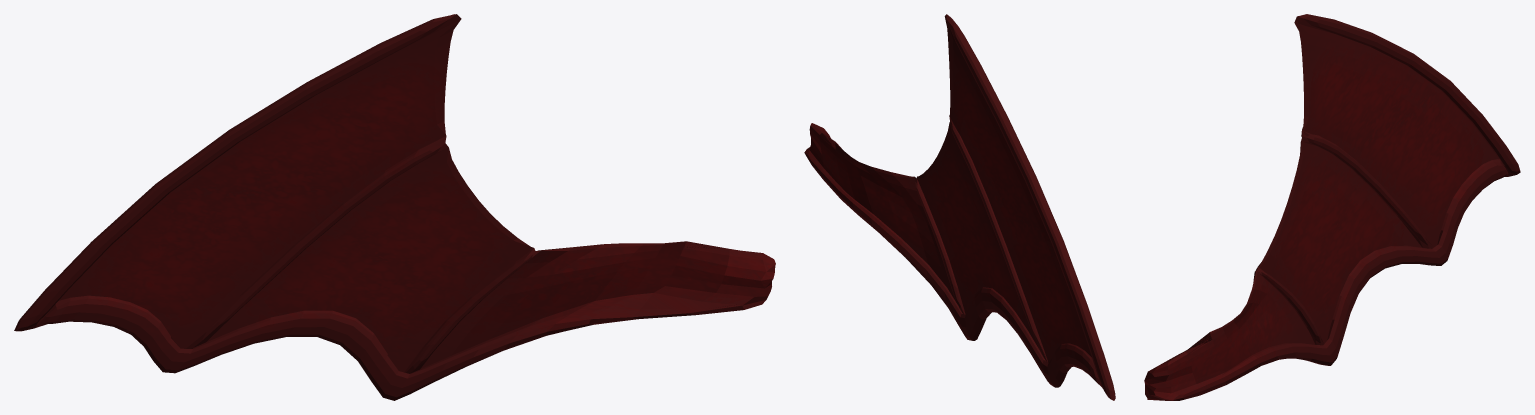
File: AD_Demon_Wing_Right.fbx
The picture shows the model from 3 angles, left to right: view 1: azimuth 30°, elevation 25°; view 2: azimuth 150°, elevation 25°; view 3: azimuth 270°, elevation 25°; orthographic projection. The views are drawn at different scales.
Visible parts, largest first — view 1: D_WingsRigth; view 2: D_WingsRigth; view 3: D_WingsRigth.
Part boxes in pixels (left/top/right/bottom): D_WingsRigth: left=14, top=14, right=775, bottom=400; D_WingsRigth: left=804, top=14, right=1115, bottom=400; D_WingsRigth: left=1144, top=14, right=1520, bottom=400.
Size of the model in its own units: 143 by 92.77 by 85.35.
